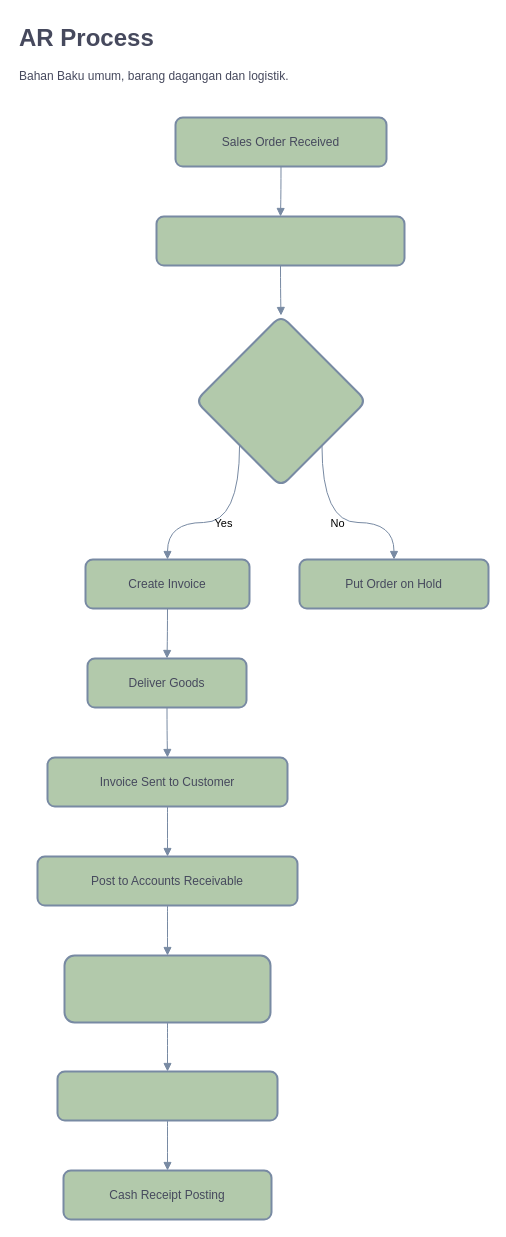
Some shapes in this 506 by 1237 pixel diagram are drawn without their labels. Here are the shapes that lost their labels. From the top down, the centre of each, then its label:
(280,240): Credit Check on Customer
(280,400): Credit Approved?
(167,988): Monitor Outstanding Balance
(167,1095): Customer Pays Invoice
